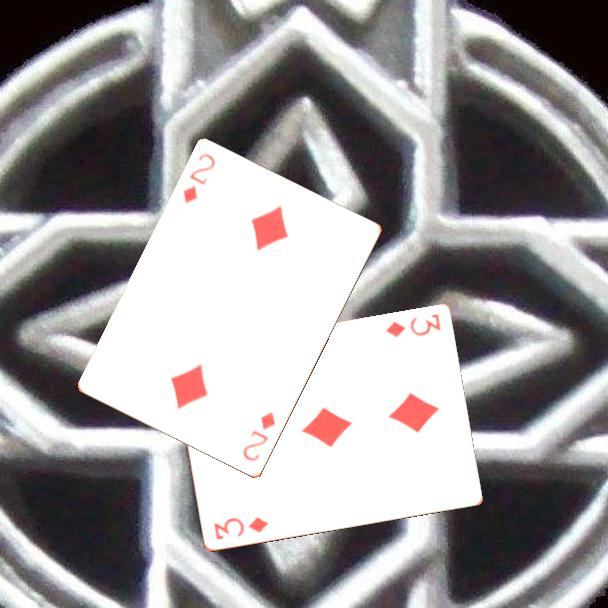d02: (239, 408, 279, 465), (179, 150, 218, 207)
d03: (382, 311, 443, 341), (210, 514, 271, 543)
